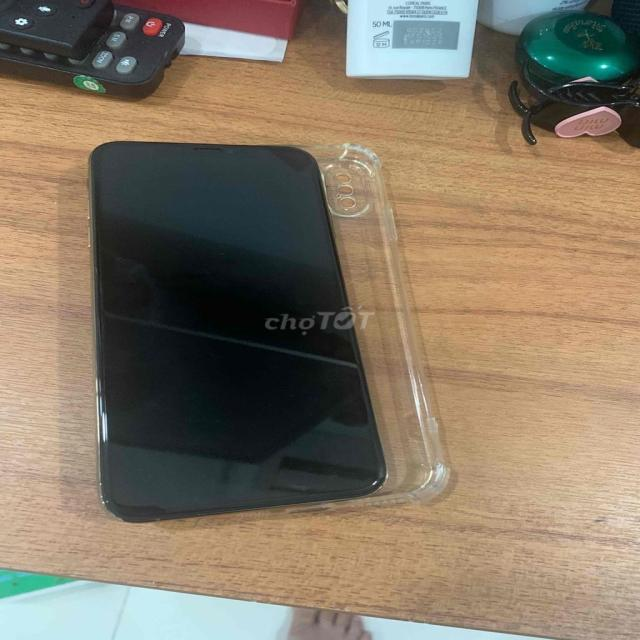gen_x_xs: (90, 142, 386, 521)
